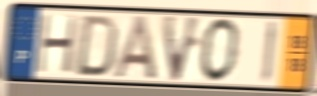A: (111, 14, 160, 82)
D: (72, 13, 121, 79)
H: (34, 13, 80, 76)
I: (259, 18, 280, 86)
O: (199, 16, 243, 85)
V: (160, 12, 205, 85)
